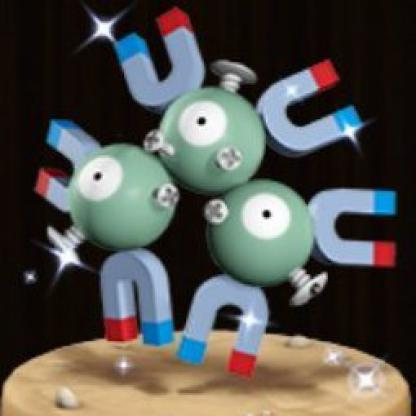Magneton: (41, 9, 403, 373)
